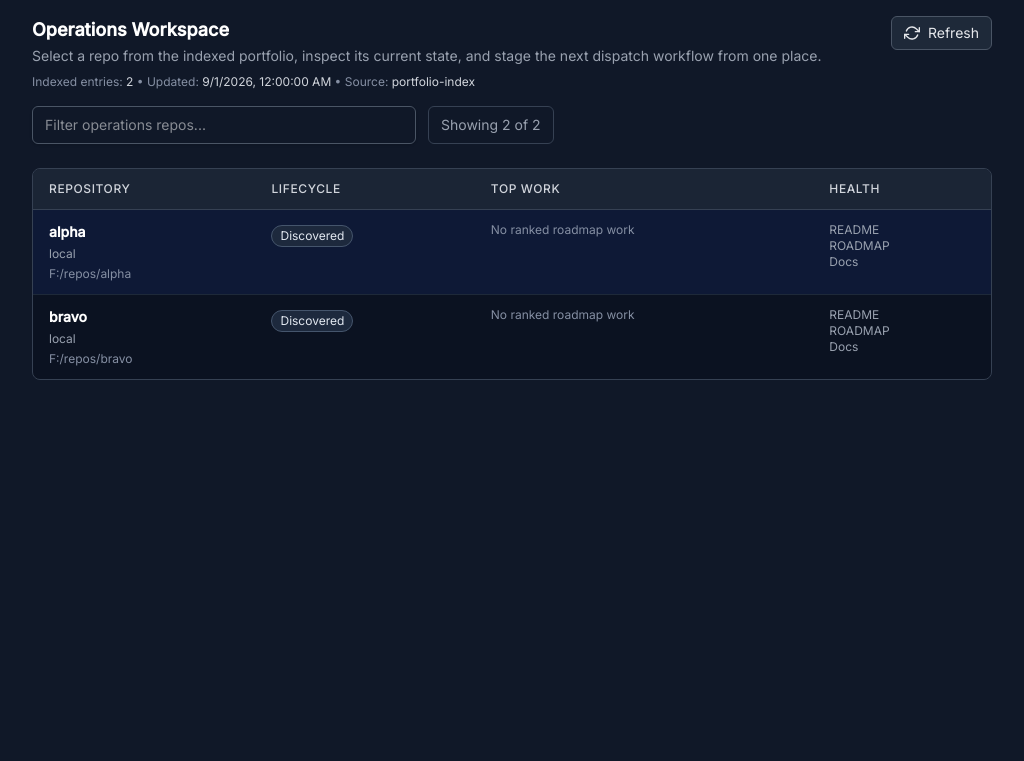
Test: OperationsWorkspaceView — the list is a picker, the repo is the work › gives the whole page to a repository when one is clicked
Step 1. Click the text "alpha" → (67, 232), box [49,223,86,240]
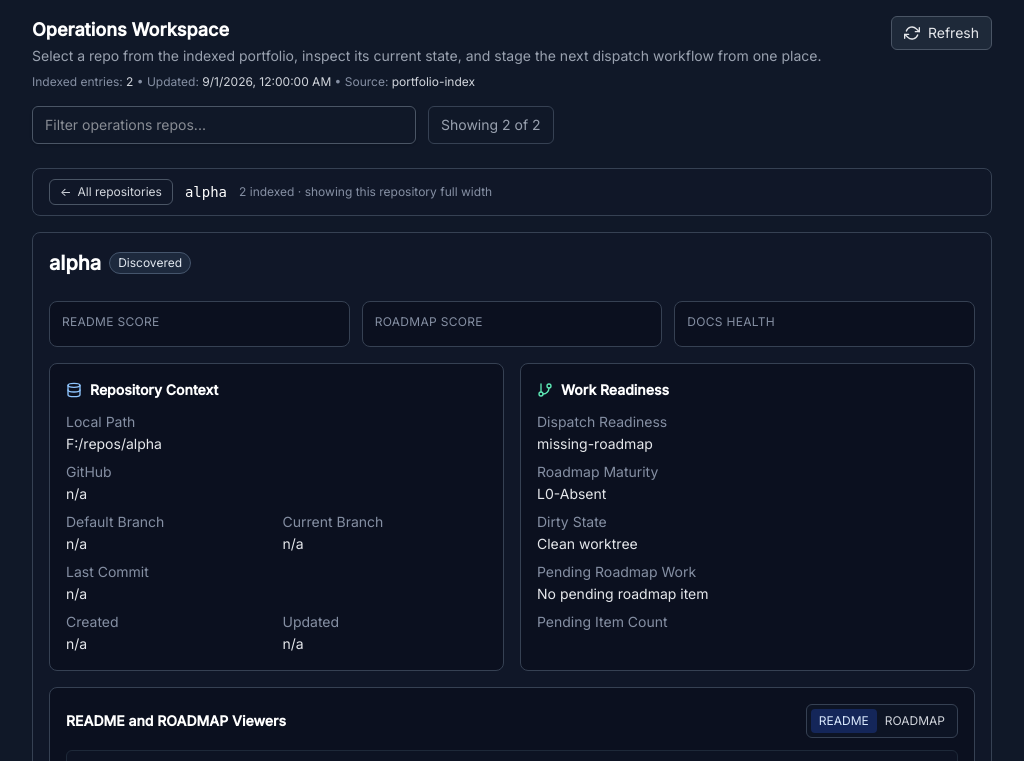
Check: the button with test id "operations-back-to-list" shows "All repositories", box [49,179,173,205]
